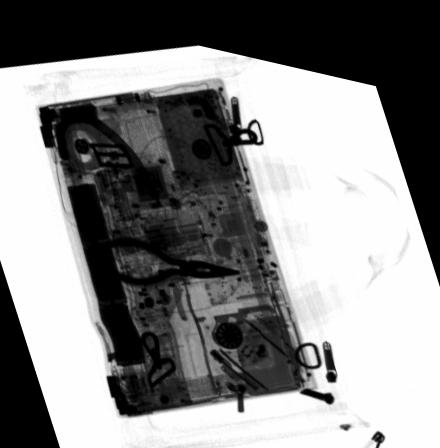Pliers: (105, 227, 243, 281)
